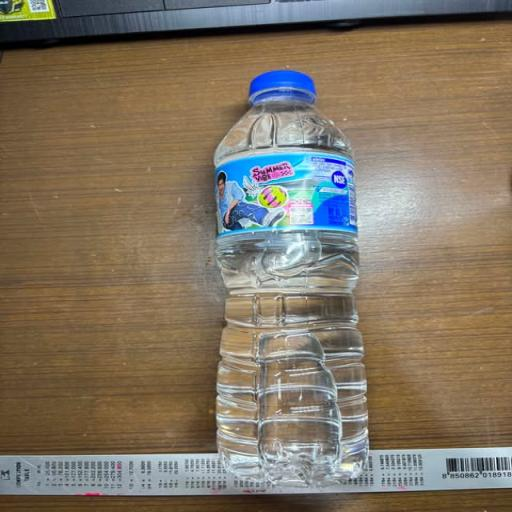bottle: (193, 58, 385, 492)
